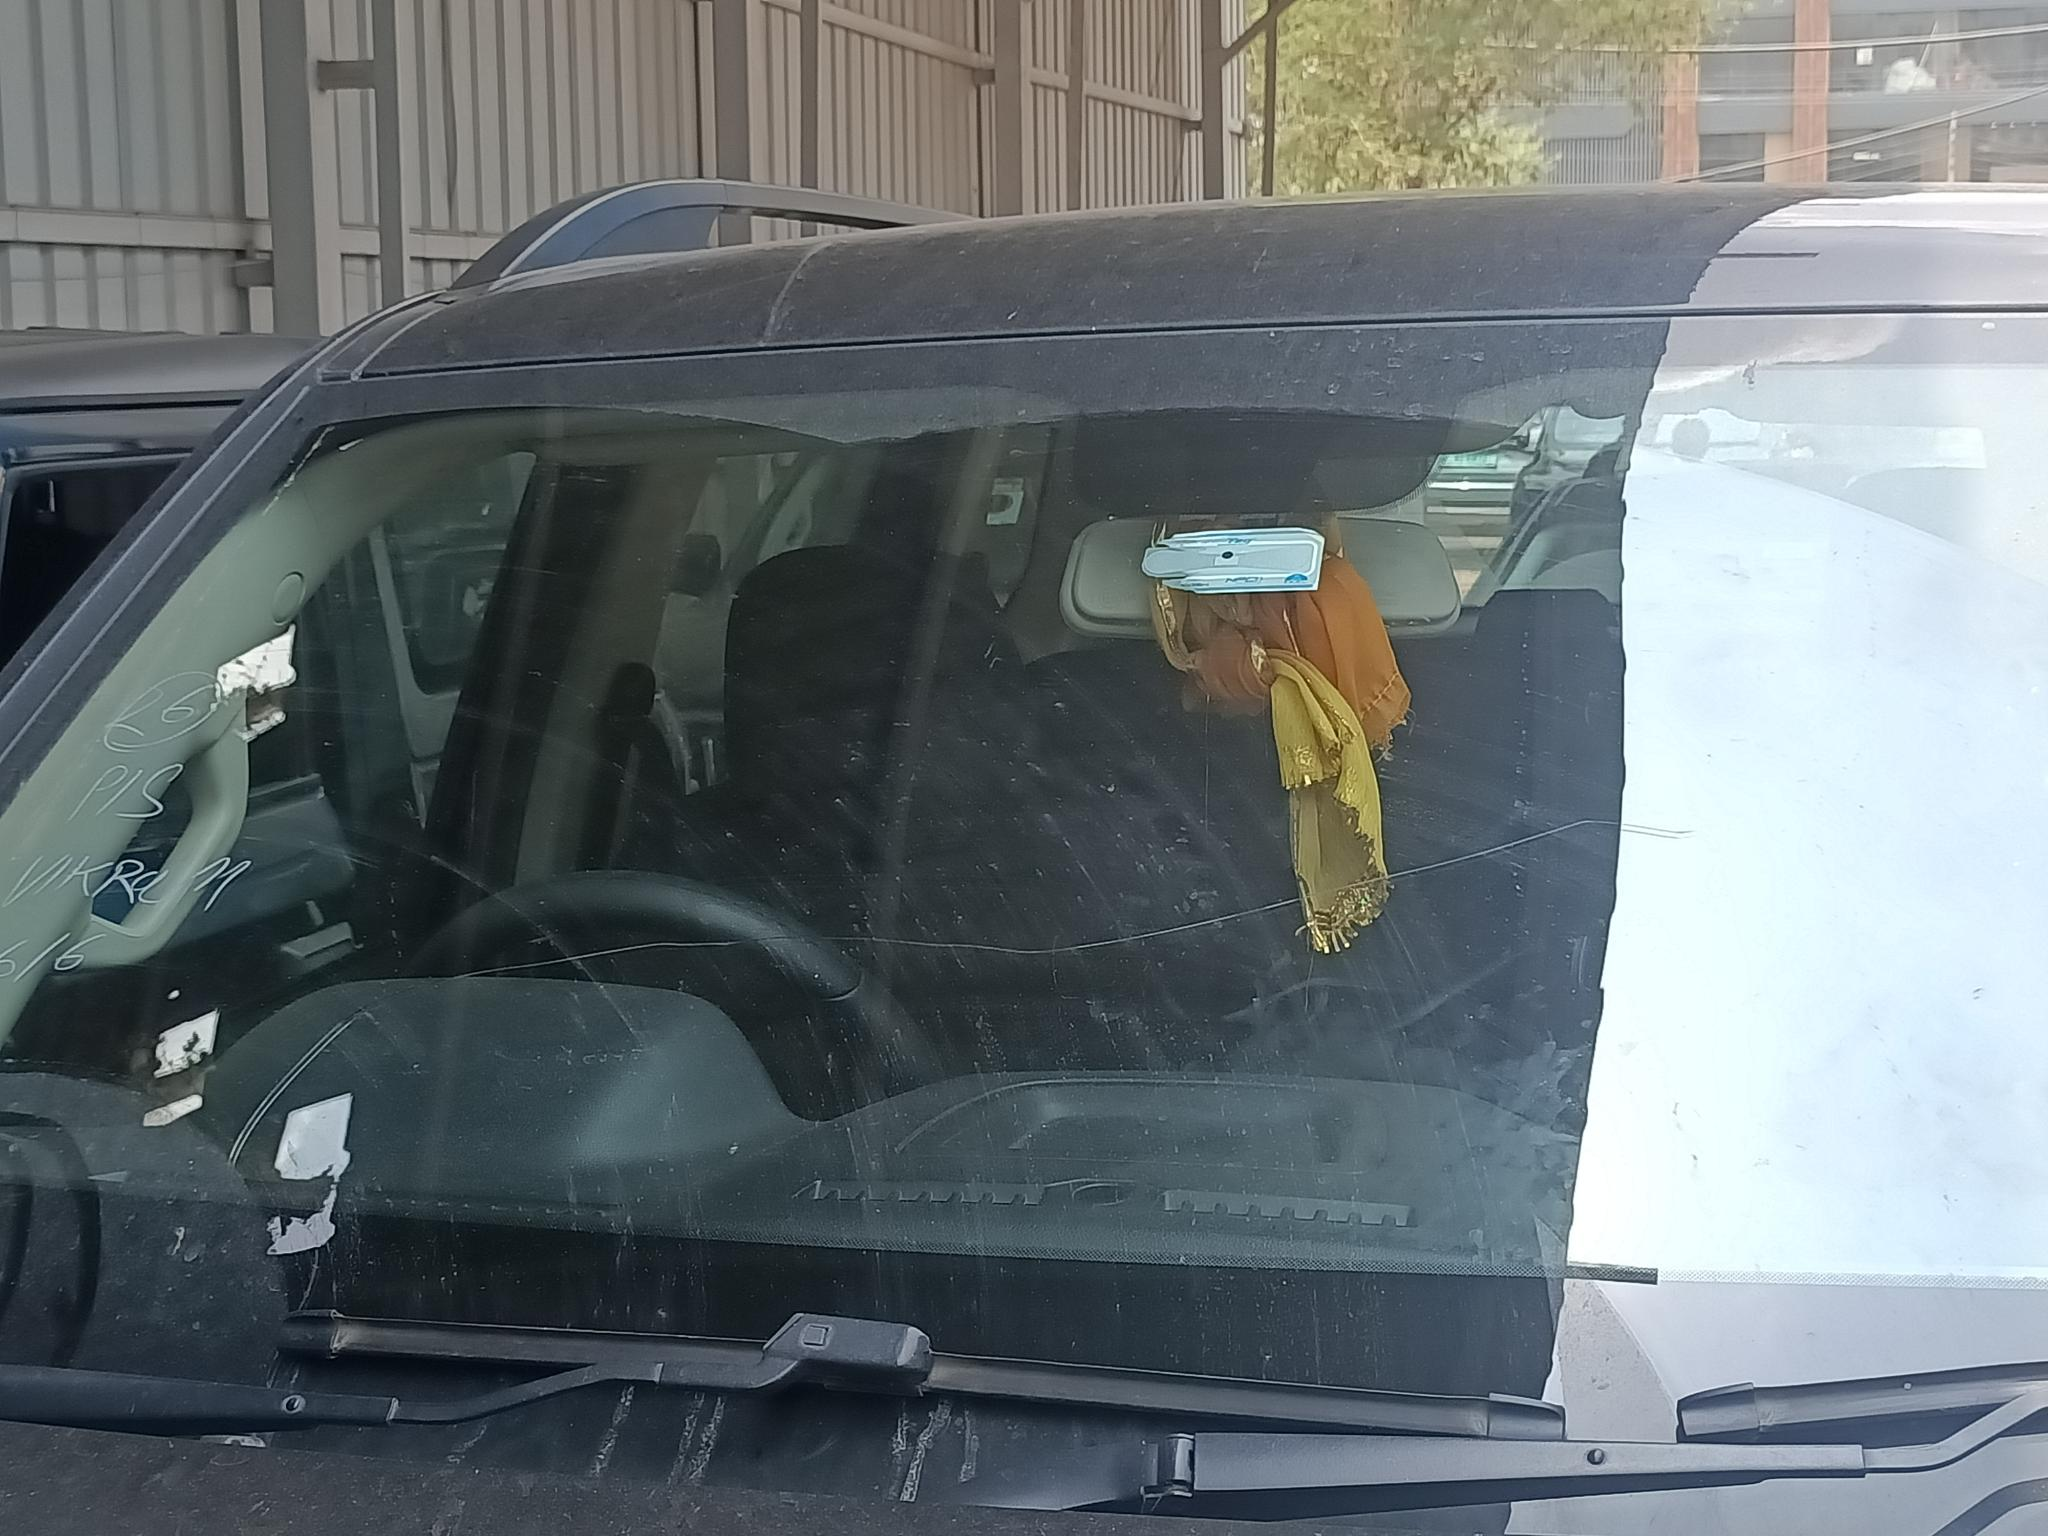FastTag: (1132, 508, 1335, 600)
